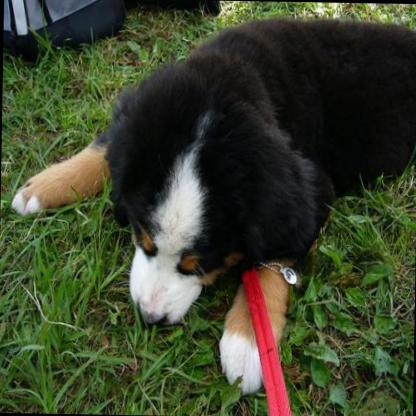Bernese_mountain_dog: (3, 8, 416, 396)
